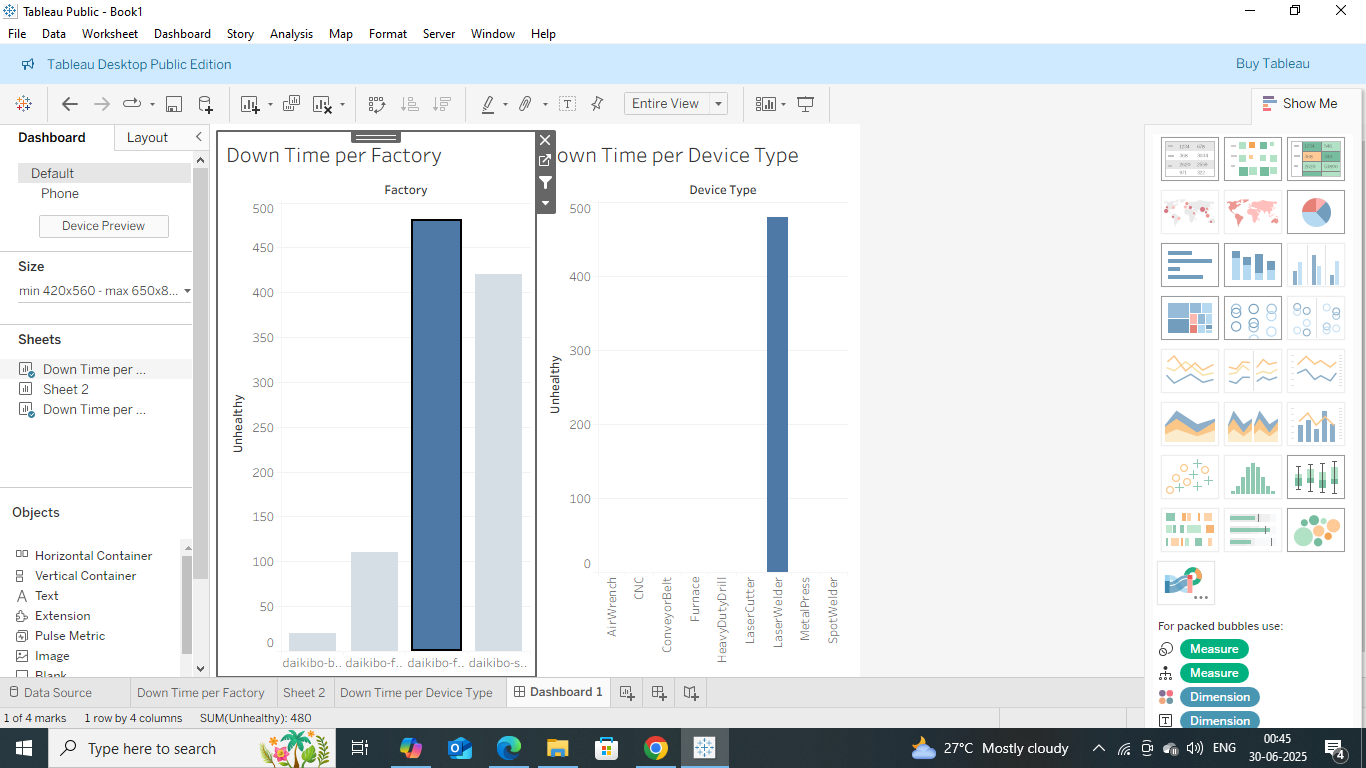

The page's visual inventory and layout, read from the dashboard file:
{"tool":"tableau","page":{"name":"Dashboard 1","canvas":[650,860],"ordinal":0},"visuals":[{"type":"worksheet","title":"Down Time per Factory","mark":"Automatic","rows":["Calculation_84723994354982912"],"cols":["factory"],"box":[8,12.3,317,835.4]},{"type":"worksheet","title":"Down Time per Device Type","mark":"Automatic","rows":["Calculation_84723994354982912"],"cols":["deviceType"],"box":[325,12.3,317,835.4]}]}

Visuals, with their boxes on the page's 650x860 design canvas (x1, y1, x2, y2). These are canvas units, not pixel positions in the 1366x768 screenshot, which may show the page scaled, cropped or inside an application window:
"Down Time per Factory" worksheet: region(8, 12, 325, 848)
"Down Time per Device Type" worksheet: region(325, 12, 642, 848)
